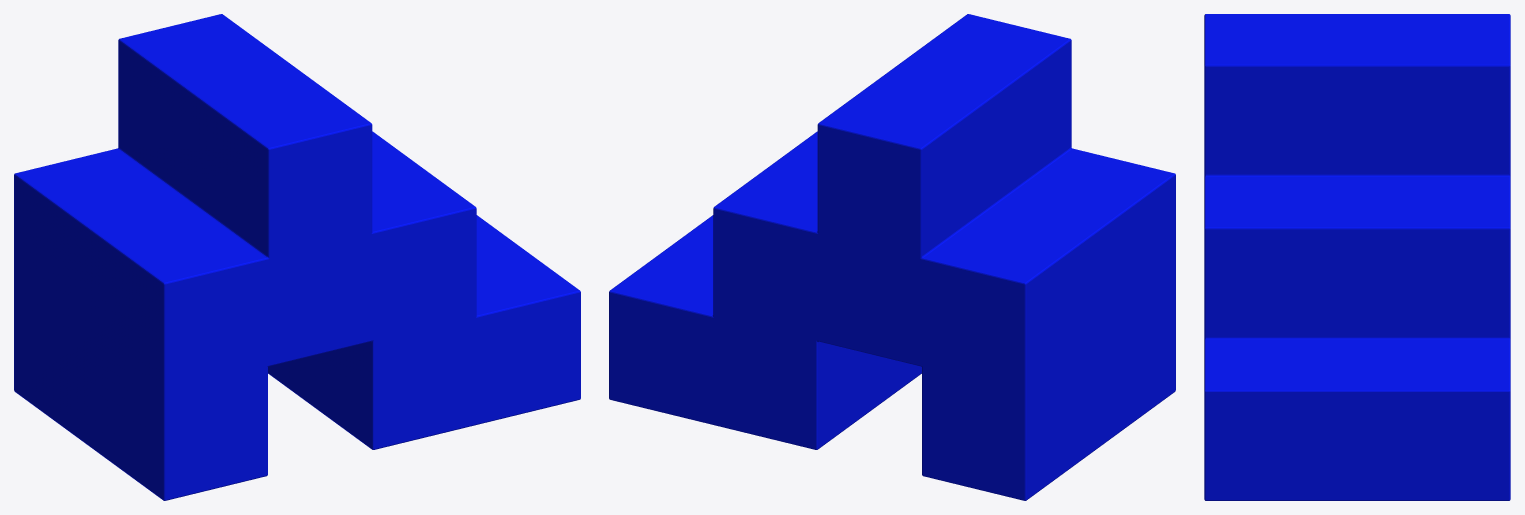
Rendered from glyph-alxmtnc-3d-v2.glb.
3 renders of one model, left to right at view 1: azimuth 30°, elevation 25°; view 2: azimuth 150°, elevation 25°; view 3: azimuth 270°, elevation 25°, orthographic.
Visible parts, largest first — view 1: ALXMTNC_Stairs; view 2: ALXMTNC_Stairs; view 3: ALXMTNC_Stairs.
Part boxes in pixels (left/top/right/bottom): ALXMTNC_Stairs: left=14, top=14, right=580, bottom=500; ALXMTNC_Stairs: left=609, top=14, right=1175, bottom=500; ALXMTNC_Stairs: left=1204, top=14, right=1510, bottom=500.
Bounding box in the file's own units: 4 × 3 × 2.5.
